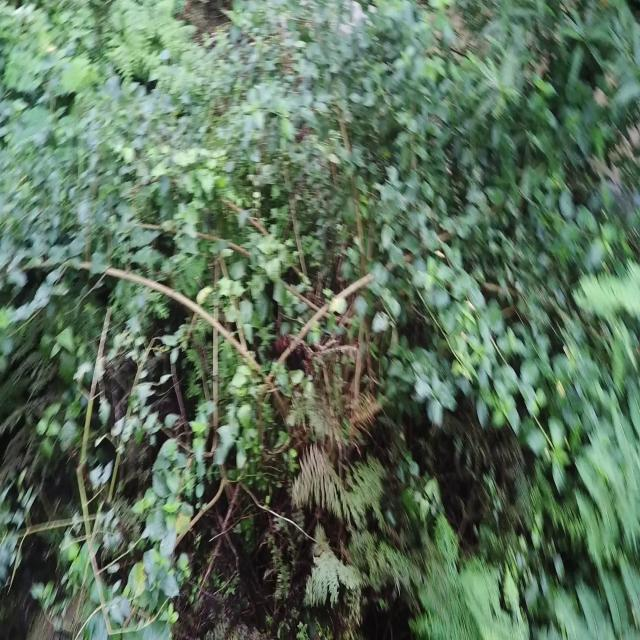Mysore-Thorn-Weed: (468, 431, 640, 640)
